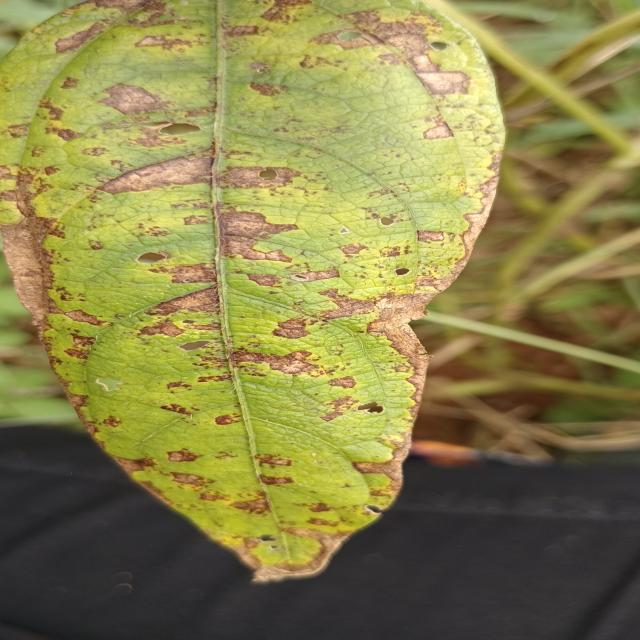Black gram_leaf spot: (0, 0, 515, 591)
